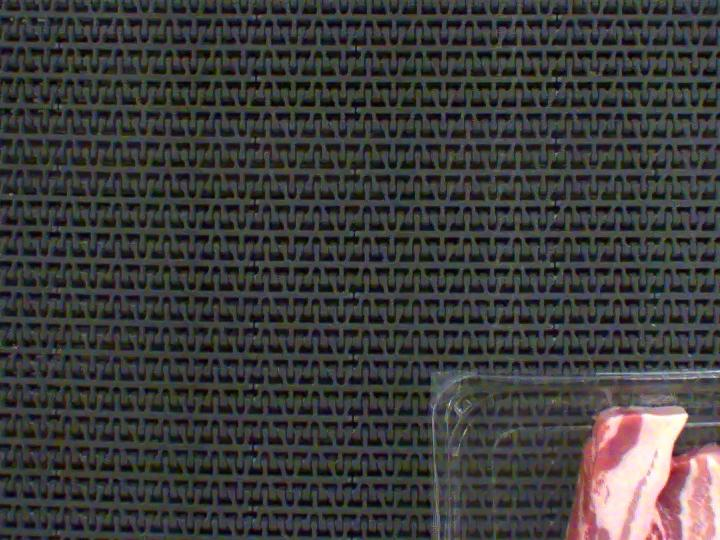packaging-error: (597, 386, 632, 412)
